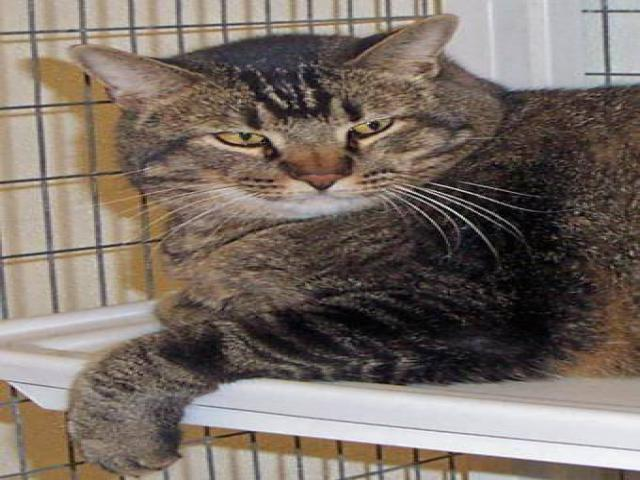cat: (46, 8, 633, 468)
